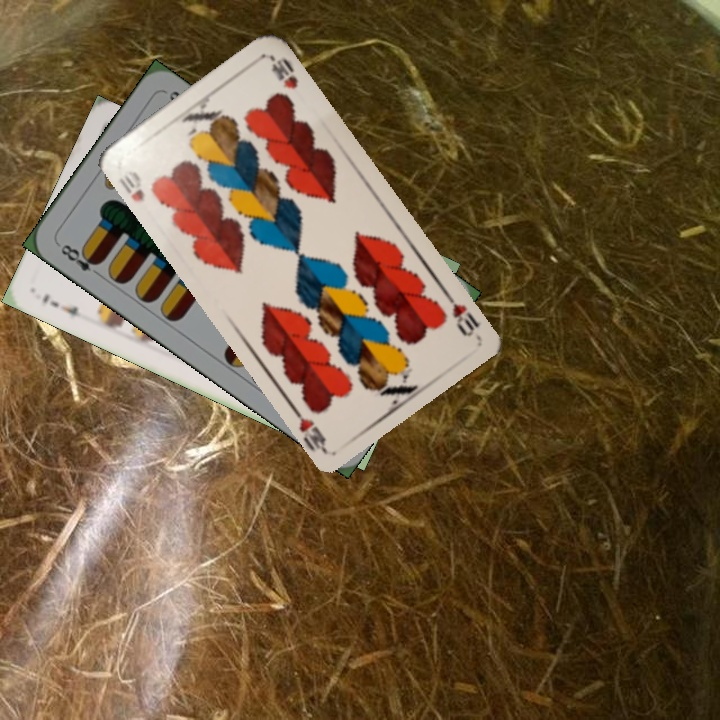E7: (38, 290, 81, 319)
E8: (53, 239, 104, 280)
H10: (440, 287, 482, 340), (115, 165, 147, 205)
